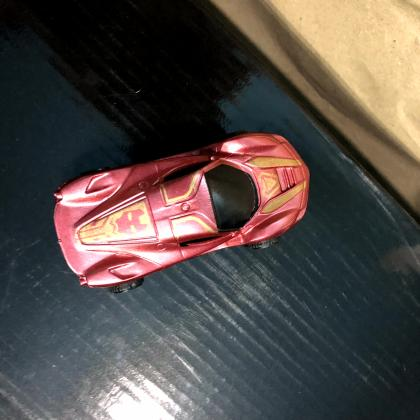Car: (50, 130, 312, 298)
